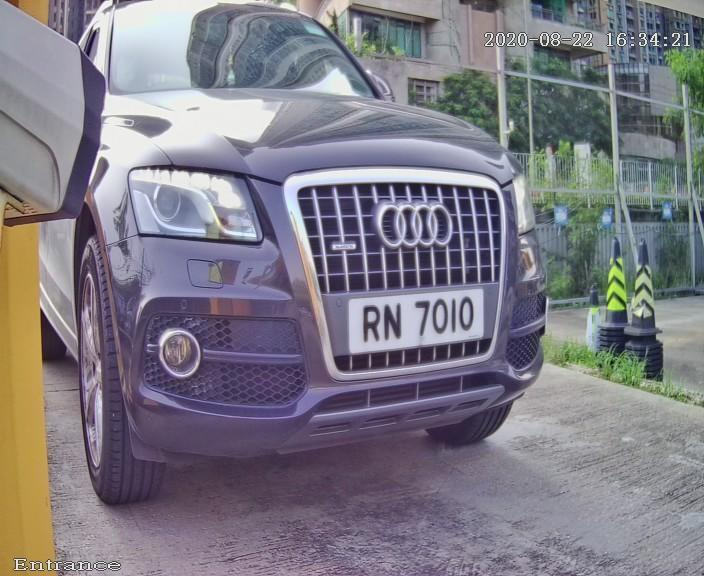Car: (29, 16, 595, 512)
License Plate: (329, 272, 504, 366)
